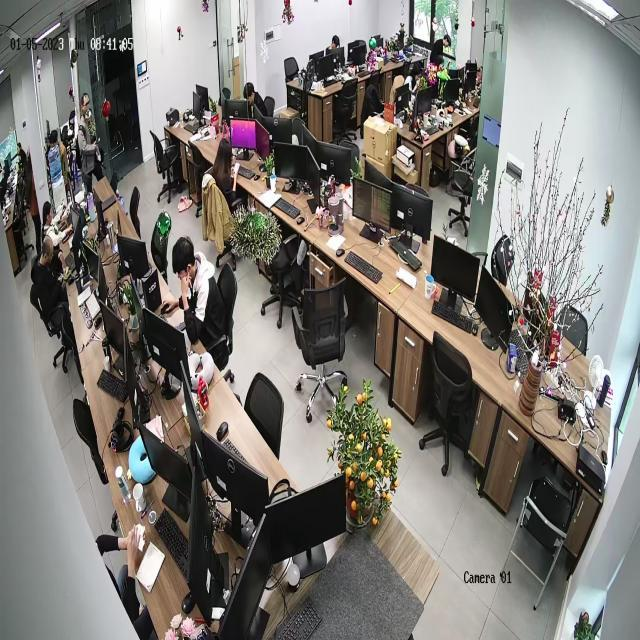person: (159, 236, 235, 377), (29, 235, 73, 329), (72, 90, 105, 196), (209, 135, 247, 212), (41, 200, 74, 249), (431, 27, 453, 70), (244, 81, 270, 117), (405, 58, 422, 94)
